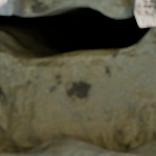brick: (0, 138, 155, 155), (134, 0, 155, 25), (0, 0, 23, 13)
crack: (0, 0, 155, 63)
